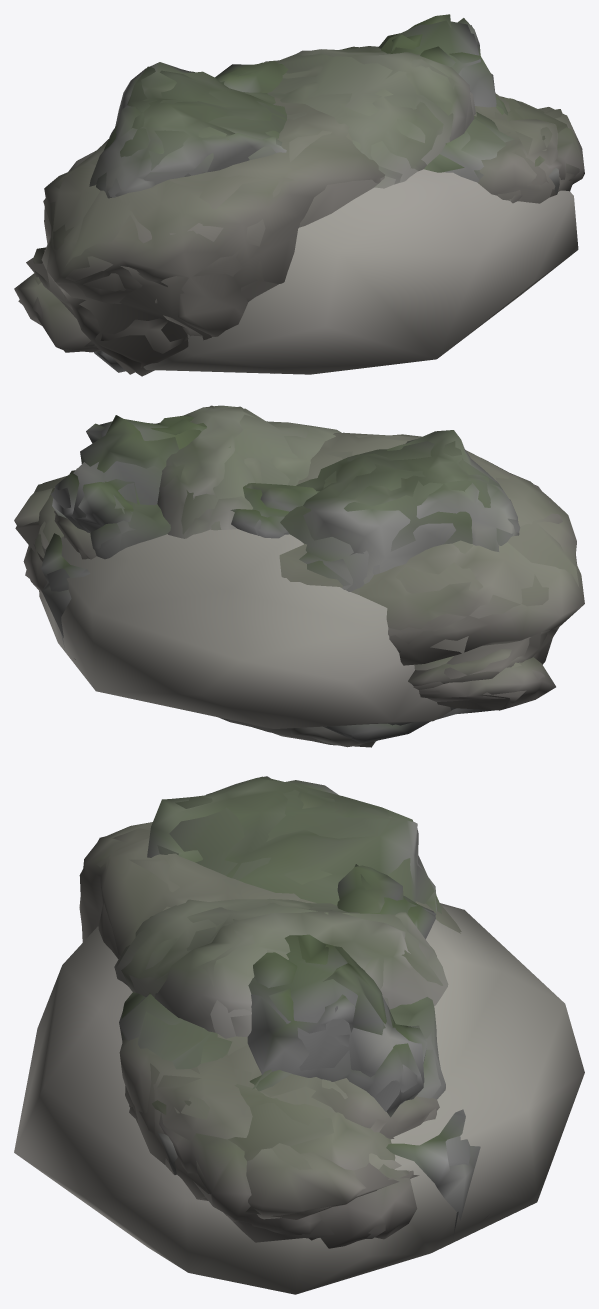
Rendered from rocks.glb.
The picture shows the model from 3 angles, top to bottom: view 1: azimuth 30°, elevation 25°; view 2: azimuth 150°, elevation 25°; view 3: azimuth 270°, elevation 25°; orthographic projection. The views are drawn at different scales.
Parts seen in each view (by area): view 1: pebble, rock2, rock2_far, rock1, rock0, rock0_far, rock1_far, rock3, rock4, rock3_far, rock4_far; view 2: pebble, rock2, rock1, rock3, rock2_far, rock0, rock1_far, rock0_far, rock3_far, rock4, rock4_far; view 3: pebble, rock2, rock1, rock0, rock3, rock4, rock1_far, rock3_far, rock2_far, rock0_far, rock4_far.
Boxes of the visible parts, x1,y1,x2,y2 form: pebble: (68,150,578,374); rock2: (33,102,581,376); rock2_far: (26,93,573,374); rock1: (89,62,559,198); rock0: (264,46,474,184); rock0_far: (272,46,475,188); rock1_far: (96,66,514,197); rock3: (93,14,496,372); rock4: (14,96,584,352); rock3_far: (98,20,480,353); rock4_far: (18,99,579,352); pebble: (39,529,451,728); rock2: (14,432,584,685); rock1: (90,430,519,589); rock3: (41,415,494,743); rock2_far: (15,435,581,689); rock0: (157,405,376,747); rock1_far: (95,439,520,591); rock0_far: (157,405,375,747); rock3_far: (47,419,455,738); rock4: (23,468,555,710); rock4_far: (25,470,544,704); pebble: (14,903,584,1294); rock2: (79,822,460,1219); rock1: (121,776,441,1174); rock0: (115,898,448,1036); rock3: (247,865,480,1220); rock4: (129,1084,489,1248); rock1_far: (119,776,445,1099); rock3_far: (248,864,470,1238); rock2_far: (79,828,461,1219); rock0_far: (114,902,442,1038); rock4_far: (129,1098,409,1242).
Bounding box in the file's own units: 3.03 × 1.44 × 2.22.
